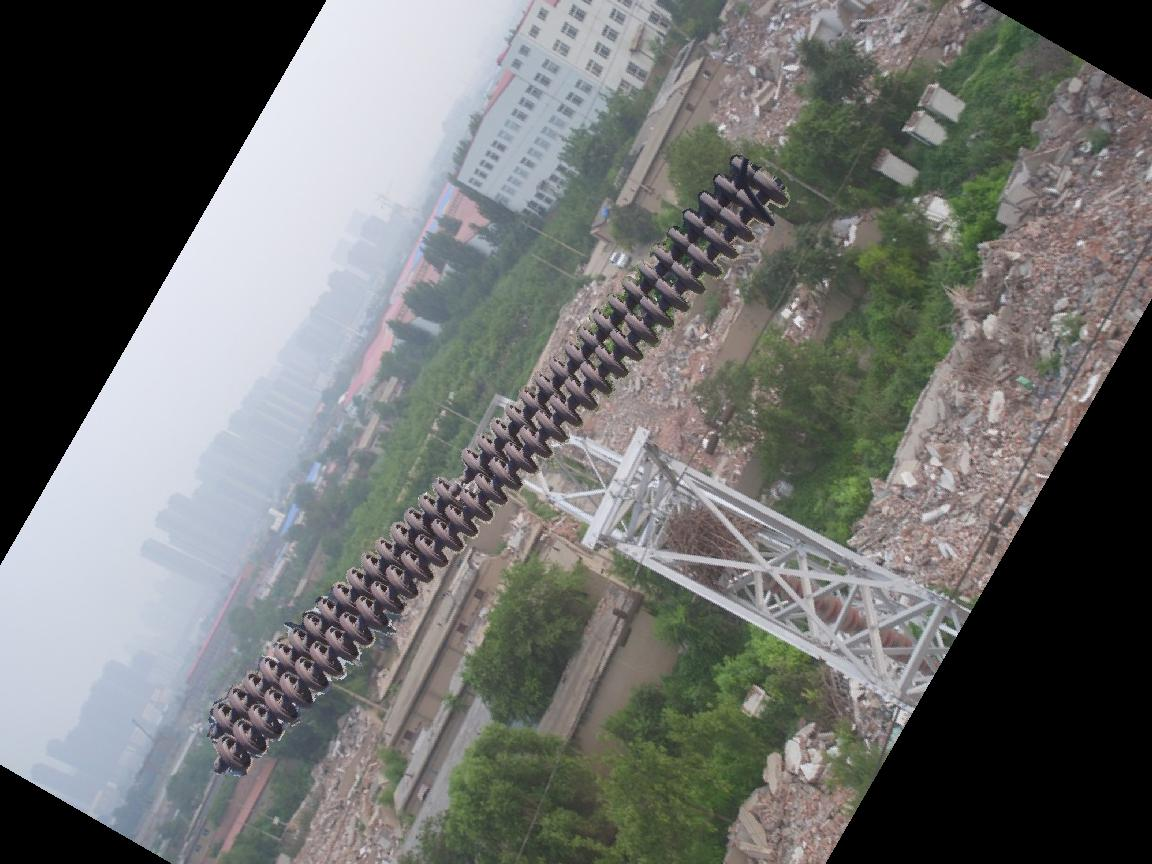insulator: (196, 148, 795, 779), (780, 574, 914, 668)
insulator_stringdrop: (430, 444, 488, 500)
